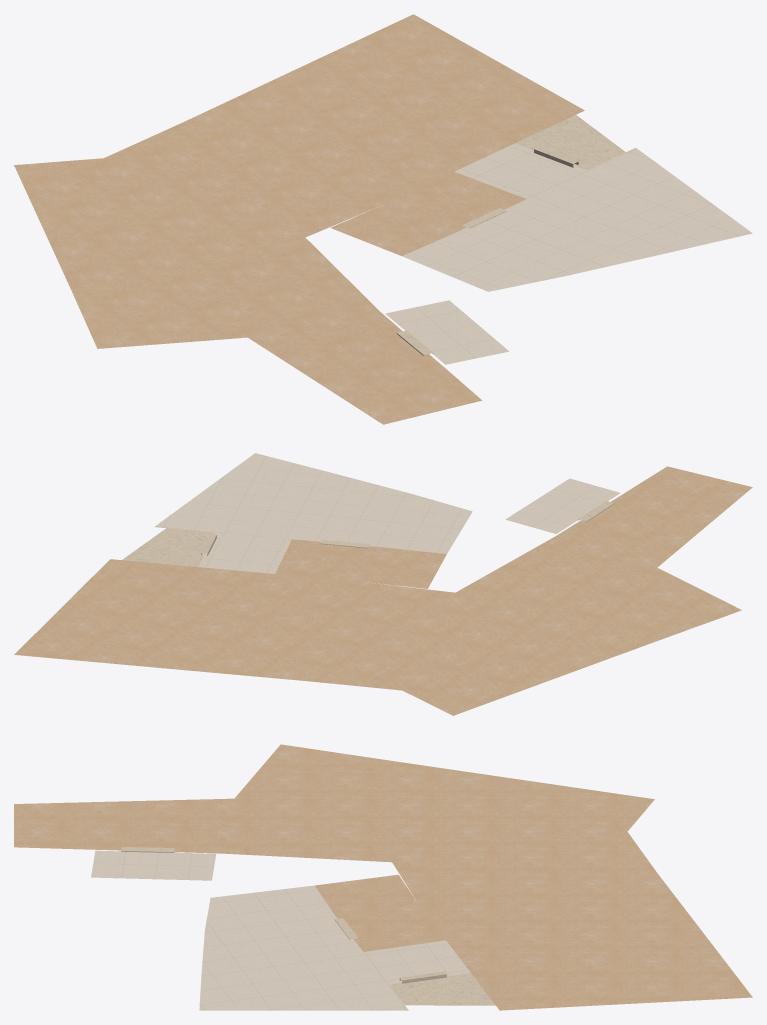
The model's file is Floor (2).fbx.
3 renders of one model, top to bottom at view 1: azimuth 30°, elevation 25°; view 2: azimuth 150°, elevation 25°; view 3: azimuth 270°, elevation 25°, orthographic. The views are drawn at different scales.
Parts seen in each view (by area): view 1: Floor; view 2: Floor; view 3: Floor.
Boxes of the visible parts, <box> form: Floor: <box>14,14,752,424</box>; Floor: <box>14,453,752,715</box>; Floor: <box>14,744,752,1010</box>.
Bounding box in the file's own units: 994 × 7.11 × 1166.
